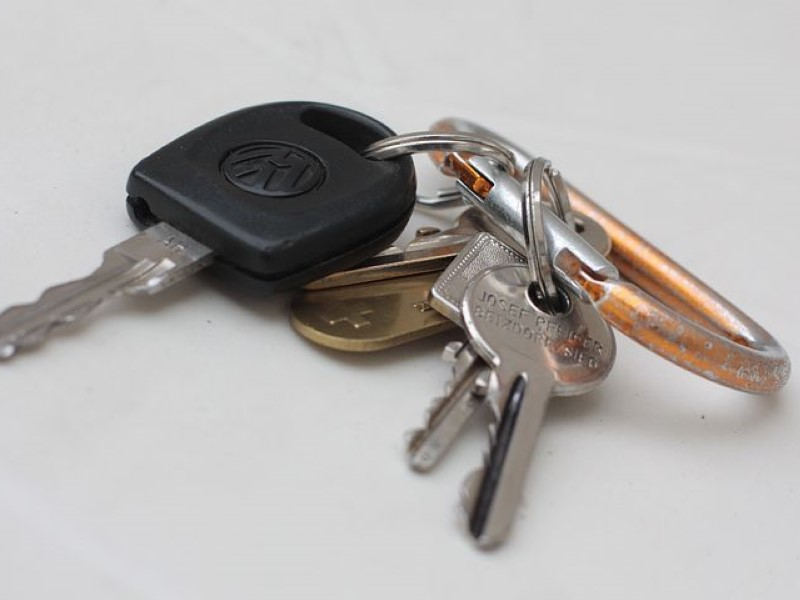carkey: (1, 94, 420, 370)
key: (399, 224, 619, 562)
